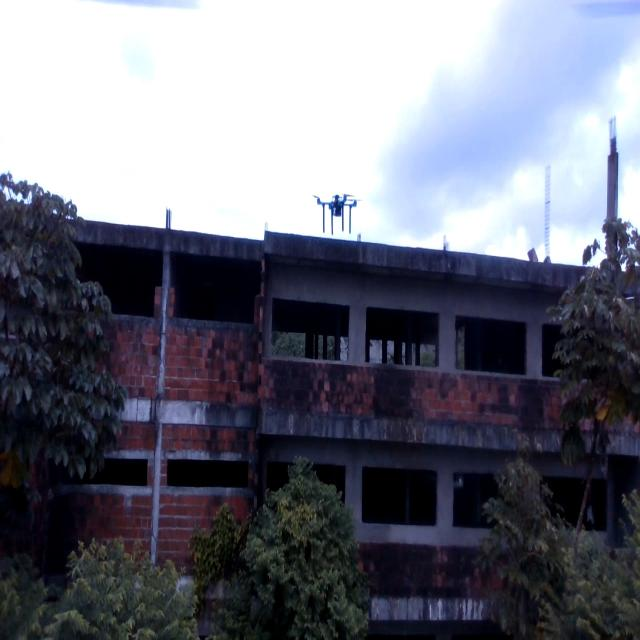-uav-: (305, 178, 380, 237)
